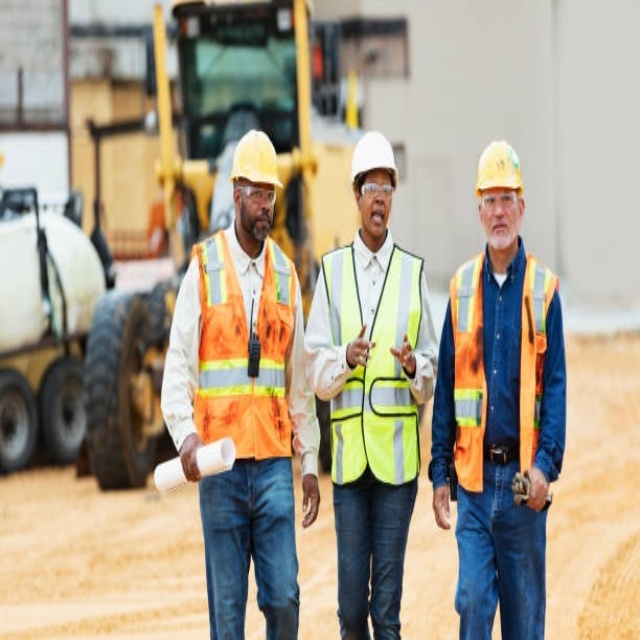Gafas: (476, 140, 524, 197), (237, 184, 277, 206), (479, 191, 519, 211), (360, 183, 394, 198)
Sin_guantes: (345, 323, 374, 373), (178, 433, 204, 481), (389, 332, 417, 376), (524, 466, 550, 508), (301, 474, 321, 528), (432, 482, 452, 531)
Sin_mascara: (489, 220, 512, 251), (366, 206, 383, 232), (253, 209, 269, 235)
